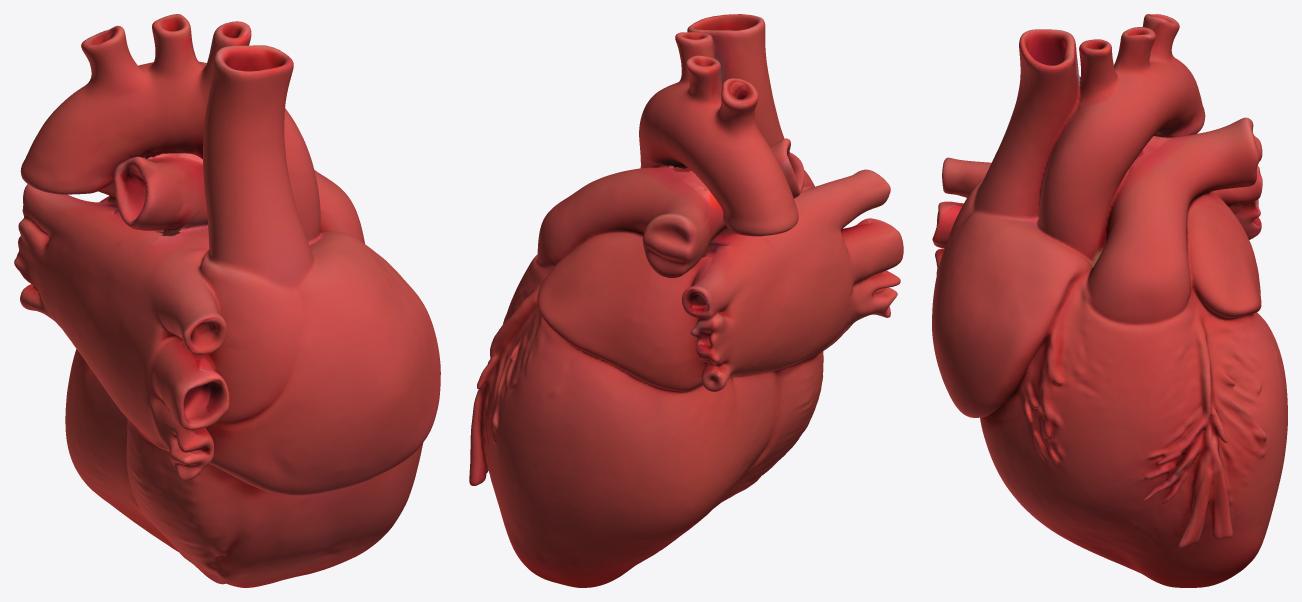
File: human_heart_3d_model.glb
The picture shows the model from 3 angles, left to right: view 1: azimuth 30°, elevation 25°; view 2: azimuth 150°, elevation 25°; view 3: azimuth 270°, elevation 25°; orthographic projection. The views are drawn at different scales.
Visible parts, largest first — view 1: tripo_node_bfb28d15-1b81-4ced-9134-25d1f7a8abdd_0; view 2: tripo_node_bfb28d15-1b81-4ced-9134-25d1f7a8abdd_0; view 3: tripo_node_bfb28d15-1b81-4ced-9134-25d1f7a8abdd_0.
Boxes of the visible parts, box(x1,y1,x2,y2) form: tripo_node_bfb28d15-1b81-4ced-9134-25d1f7a8abdd_0: box(14, 14, 440, 587); tripo_node_bfb28d15-1b81-4ced-9134-25d1f7a8abdd_0: box(469, 14, 903, 587); tripo_node_bfb28d15-1b81-4ced-9134-25d1f7a8abdd_0: box(932, 14, 1287, 587).
Size of the model in its own units: 0.5844 by 0.9485 by 0.6016.
Materials: 1 (1 with a texture image).
